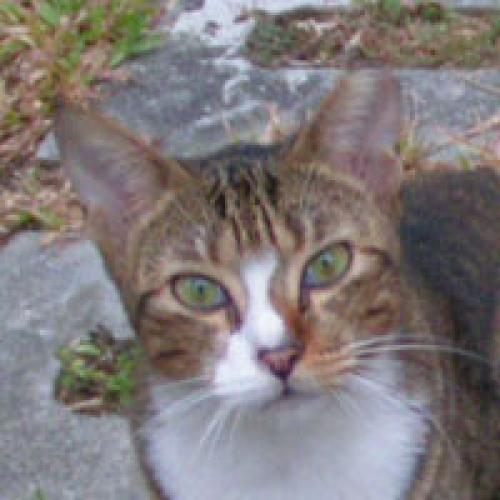bengal: (35, 74, 444, 432)
